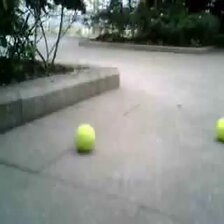tennis: (76, 123, 95, 151), (215, 114, 224, 142)
